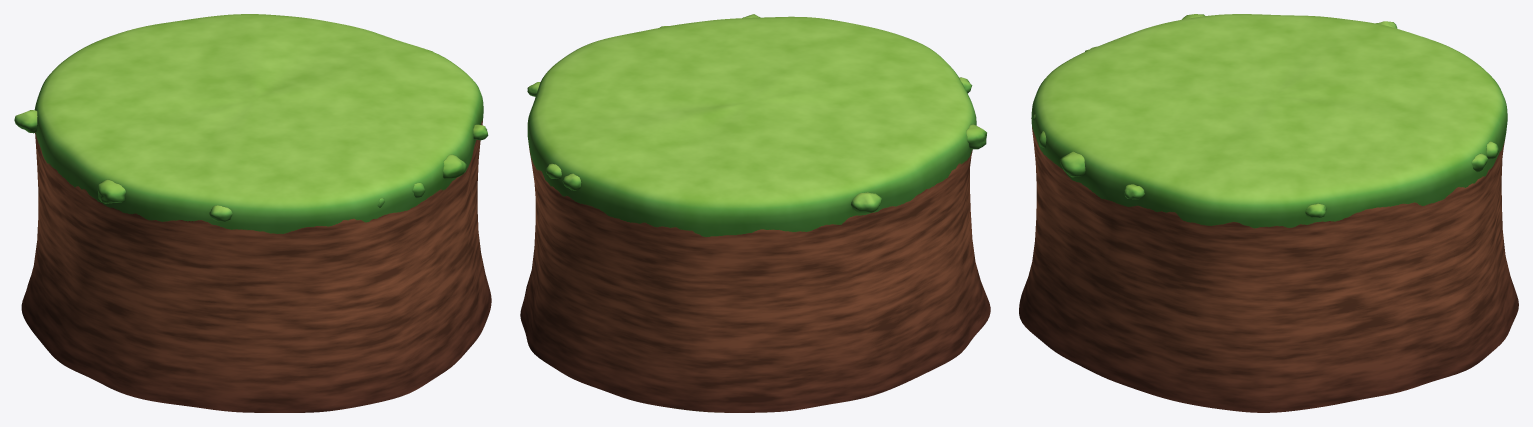
The model's file is Env_Mesa_3.glb.
3 views of the same model, side by side, from view 1: azimuth 30°, elevation 25°; view 2: azimuth 150°, elevation 25°; view 3: azimuth 270°, elevation 25° (orthographic).
Parts seen in each view (by area): view 1: Env_Mesa_3.001; view 2: Env_Mesa_3.001; view 3: Env_Mesa_3.001.
Part boxes in pixels (left/top/right/bottom): Env_Mesa_3.001: left=14, top=14, right=491, bottom=412; Env_Mesa_3.001: left=520, top=14, right=990, bottom=412; Env_Mesa_3.001: left=1019, top=14, right=1518, bottom=412.
Bounding box in the file's own units: 1.93 × 0.9396 × 2.
Materials: 1 (1 with a texture image).
